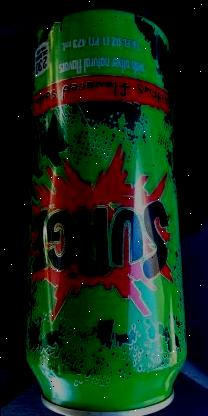Can: (23, 0, 188, 416)
